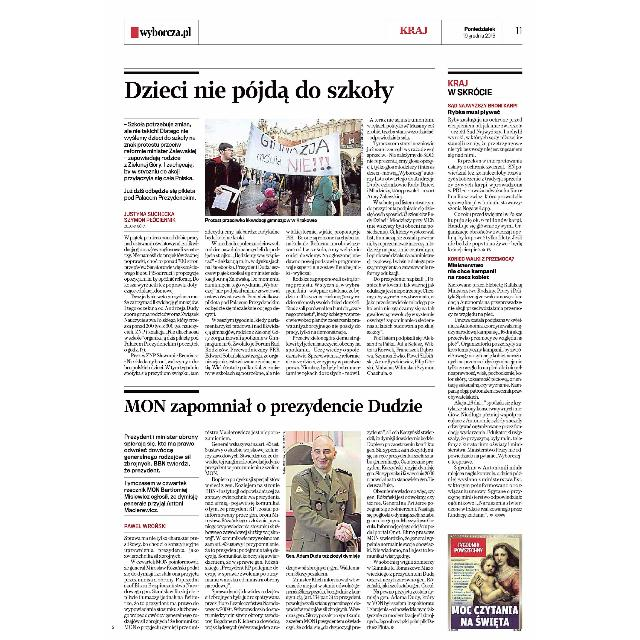article: (122, 69, 436, 379), (120, 388, 440, 634), (446, 68, 526, 520)
